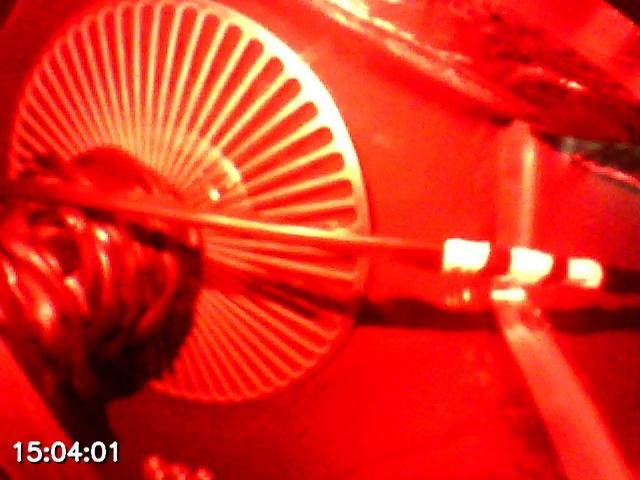white-dots: (442, 238, 603, 290)
